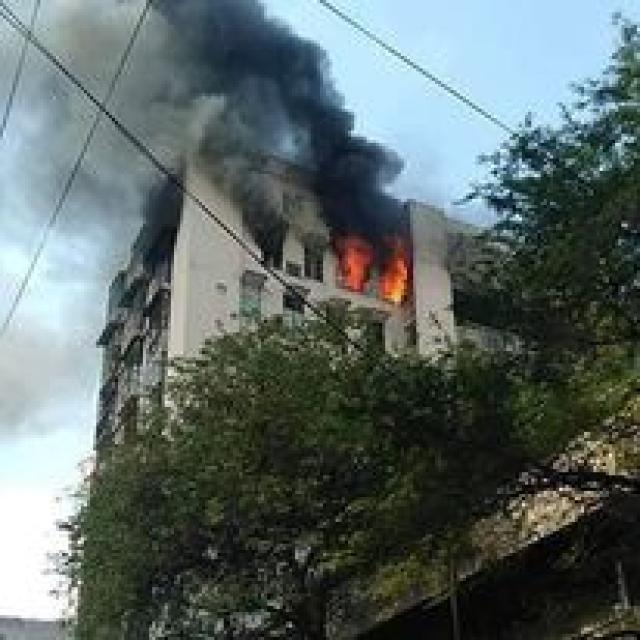Fire: (336, 230, 412, 310)
Smoke: (158, 0, 416, 268)
